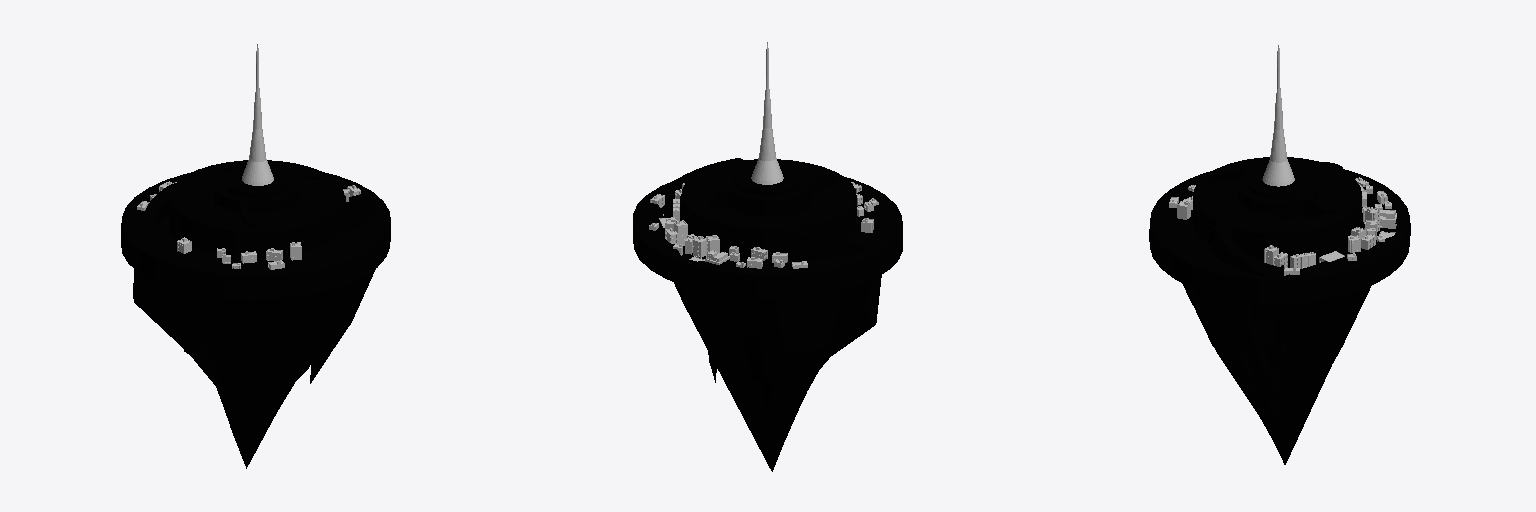
File: city.obj
The picture shows the model from 3 angles: view 1: azimuth 30°, elevation 25°; view 2: azimuth 150°, elevation 25°; view 3: azimuth 270°, elevation 25°; orthographic projection.
Visible parts, largest first — view 1: City_Base_Cone.001, Level_3_Cylinder, Level_2_Cylinder.001, Level_1_Cylinder.002, The_Tower_Cone.002; view 2: City_Base_Cone.001, Level_3_Cylinder, Level_2_Cylinder.001, Level_1_Cylinder.002, The_Tower_Cone.002; view 3: City_Base_Cone.001, Level_3_Cylinder, Level_2_Cylinder.001, Level_1_Cylinder.002, The_Tower_Cone.002.
Boxes of the visible parts, box(x1,y1,x2,y2) form: City_Base_Cone.001: box(133, 269, 375, 468); Level_3_Cylinder: box(121, 172, 390, 299); Level_2_Cylinder.001: box(141, 160, 374, 256); Level_1_Cylinder.002: box(214, 163, 300, 229); The_Tower_Cone.002: box(242, 44, 273, 185); City_Base_Cone.001: box(674, 275, 881, 471); Level_3_Cylinder: box(633, 177, 902, 298); Level_2_Cylinder.001: box(659, 158, 869, 259); Level_1_Cylinder.002: box(698, 165, 837, 216); The_Tower_Cone.002: box(751, 42, 783, 184); City_Base_Cone.001: box(1182, 283, 1370, 464); Level_3_Cylinder: box(1149, 169, 1410, 302); Level_2_Cylinder.001: box(1193, 157, 1361, 277); Level_1_Cylinder.002: box(1207, 166, 1346, 220); The_Tower_Cone.002: box(1262, 45, 1294, 186).
Bounding box in the file's own units: 2.14 × 3.67 × 2.04.